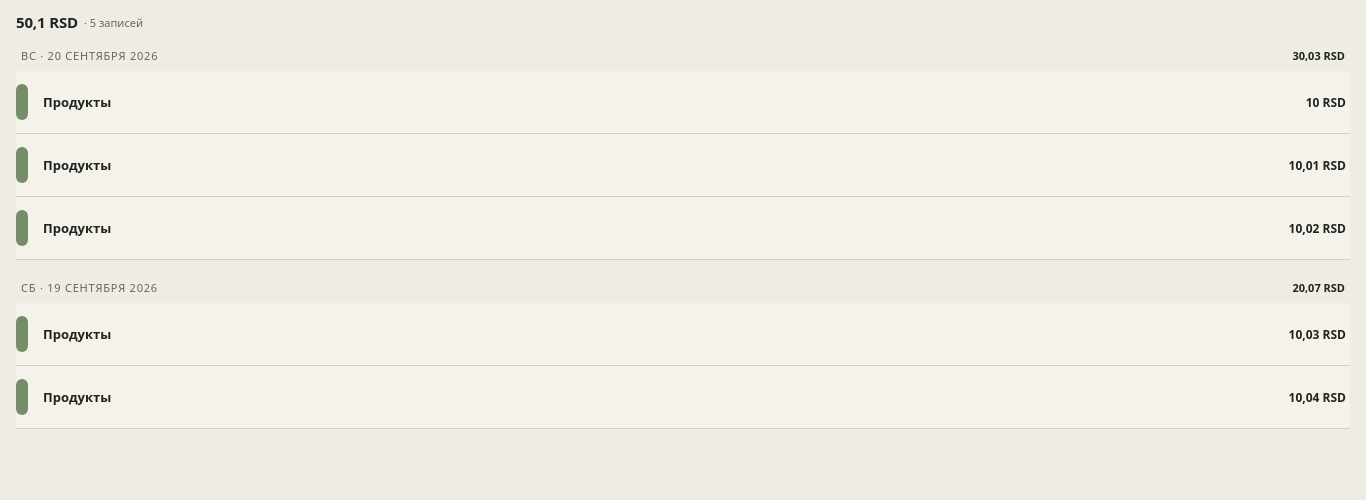
Test: history toolbar entering and leaving selection › shrinks the toolbar back when the selection is cancelled
The width and height of the screenshot is (1366, 500).
Press the mouse on the element with class "history-expense" showing "Продукты 10 RSD" at point(683, 102), box x1=16 y1=71 x2=1350 y2=134
Wait 700 ms
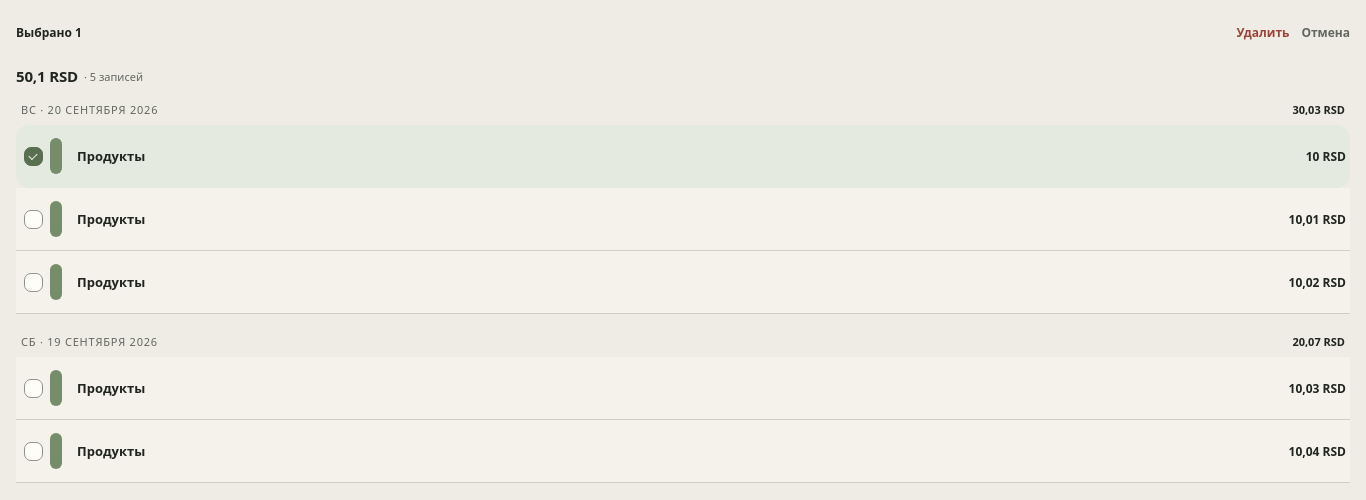
Click the button "Отмена".
click(1326, 32)  # box x1=1301 y1=16 x2=1350 y2=48
Wait 250 ms
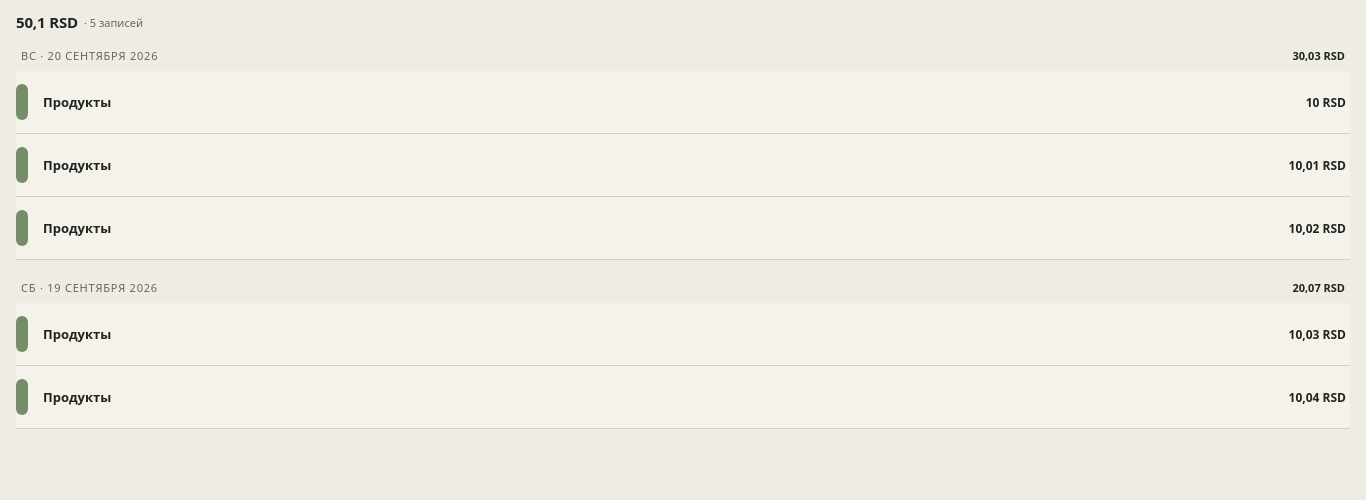
Check: the element with class "history-selectbar" is gone
